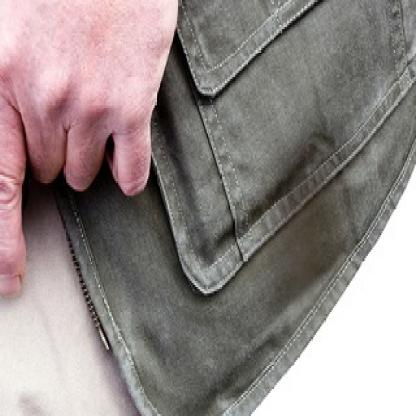gun: (0, 0, 59, 415)
